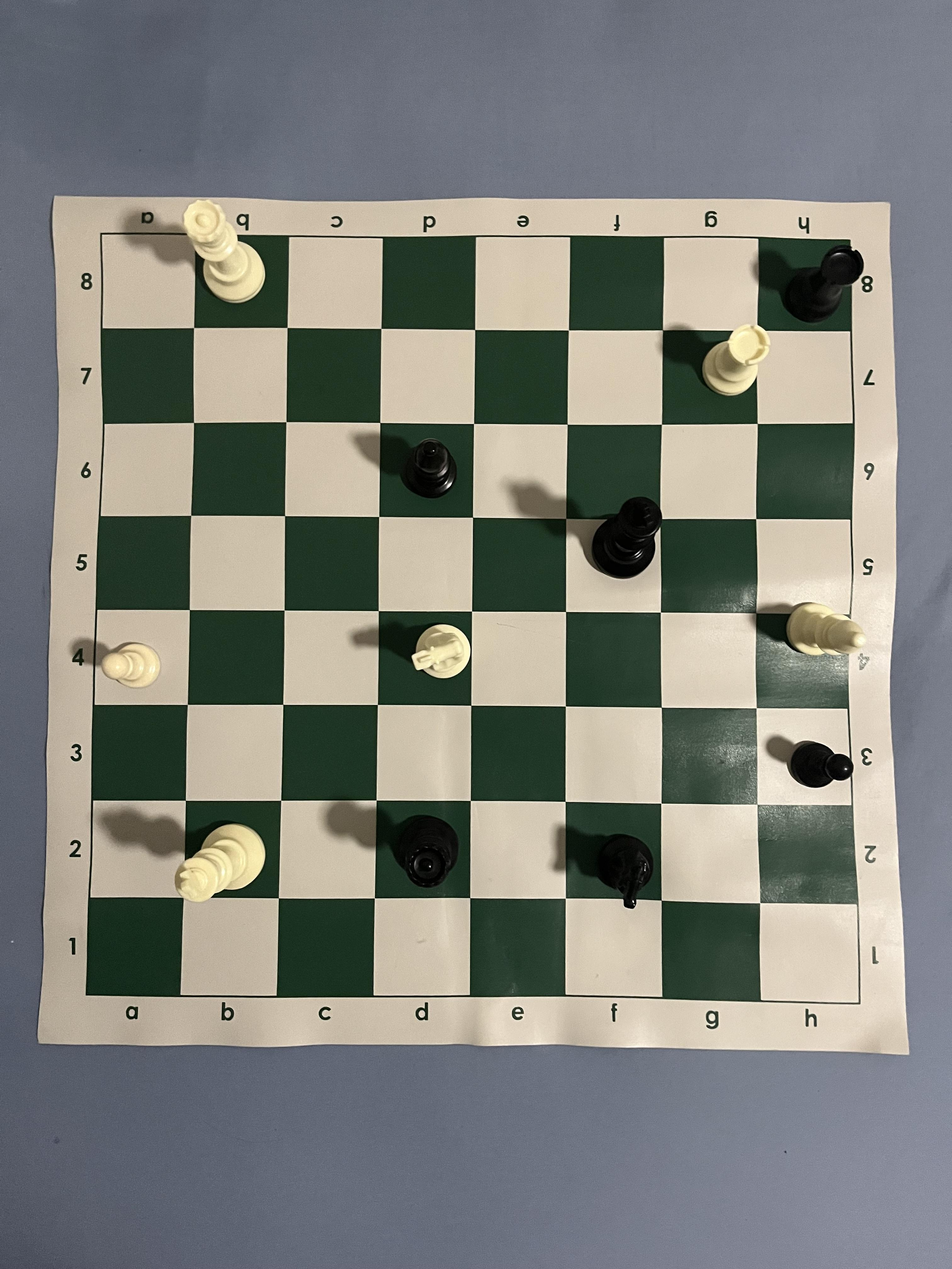black_bishop: (403, 438, 457, 499)
black_king: (591, 495, 662, 580)
black_knight: (594, 832, 654, 910)
black_pawn: (788, 741, 855, 789)
black_queen: (394, 815, 460, 890)
black_rook: (785, 244, 864, 323)
white_bishop: (785, 602, 865, 656)
white_king: (173, 822, 267, 903)
white_knight: (410, 623, 472, 679)
white_pawn: (99, 641, 161, 689)
white_queen: (182, 198, 265, 303)
white_rook: (701, 324, 770, 397)
